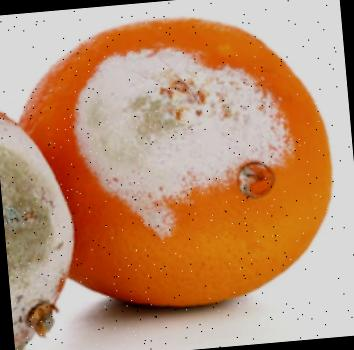Orange Rotten: (8, 1, 354, 330), (0, 79, 89, 350)
